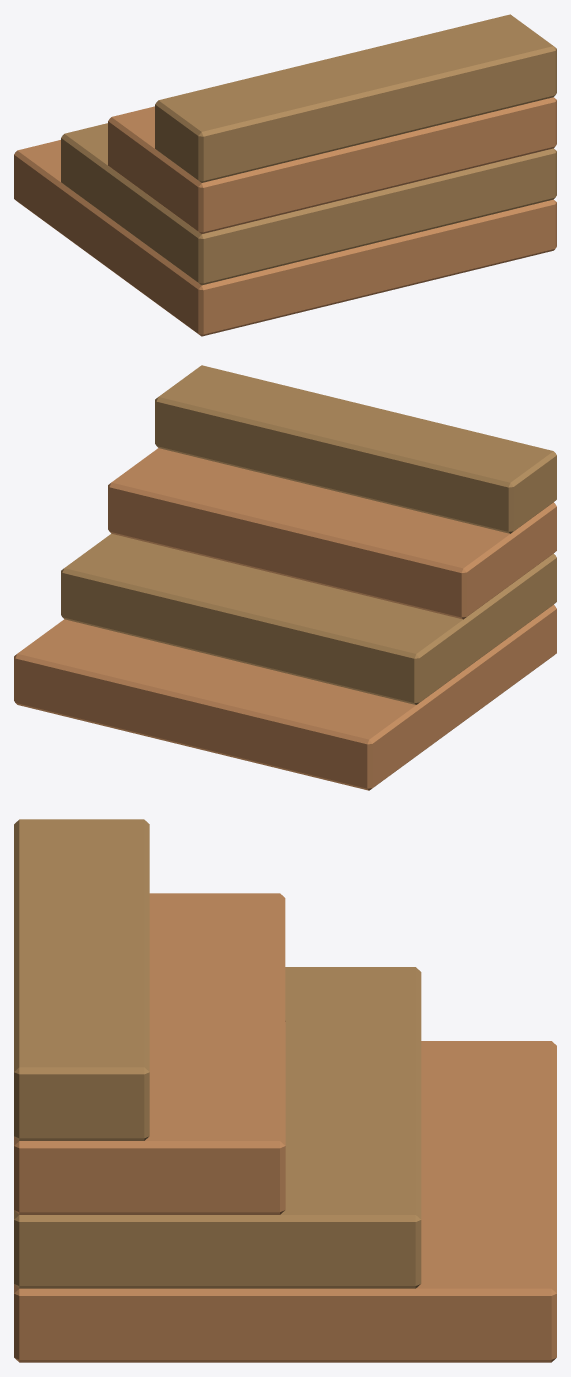
The model's file is SM_Stairs.fbx.
3 views of the same model, one above another, from view 1: azimuth 30°, elevation 25°; view 2: azimuth 150°, elevation 25°; view 3: azimuth 270°, elevation 25° (orthographic). The views are drawn at different scales.
Visible parts, largest first — view 1: SM_Stairs_Step3, SM_Stairs_Step0, SM_Stairs_Step1, SM_Stairs_Step2; view 2: SM_Stairs_Step0, SM_Stairs_Step1, SM_Stairs_Step2, SM_Stairs_Step3; view 3: SM_Stairs_Step0, SM_Stairs_Step1, SM_Stairs_Step2, SM_Stairs_Step3.
Part boxes in pixels (left/top/right/bottom): SM_Stairs_Step3: left=155, top=14, right=556, bottom=182; SM_Stairs_Step0: left=14, top=140, right=556, bottom=336; SM_Stairs_Step1: left=61, top=123, right=556, bottom=285; SM_Stairs_Step2: left=108, top=97, right=556, bottom=233; SM_Stairs_Step0: left=14, top=604, right=556, bottom=790; SM_Stairs_Step1: left=61, top=533, right=556, bottom=704; SM_Stairs_Step2: left=108, top=448, right=556, bottom=619; SM_Stairs_Step3: left=155, top=365, right=556, bottom=533; SM_Stairs_Step0: left=14, top=1041, right=556, bottom=1362; SM_Stairs_Step1: left=14, top=967, right=421, bottom=1288; SM_Stairs_Step2: left=14, top=893, right=285, bottom=1214; SM_Stairs_Step3: left=14, top=819, right=149, bottom=1140.
Size of the model in its own units: 2.2 by 2 by 1.2.
